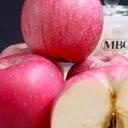apple: (49, 65, 128, 128)
